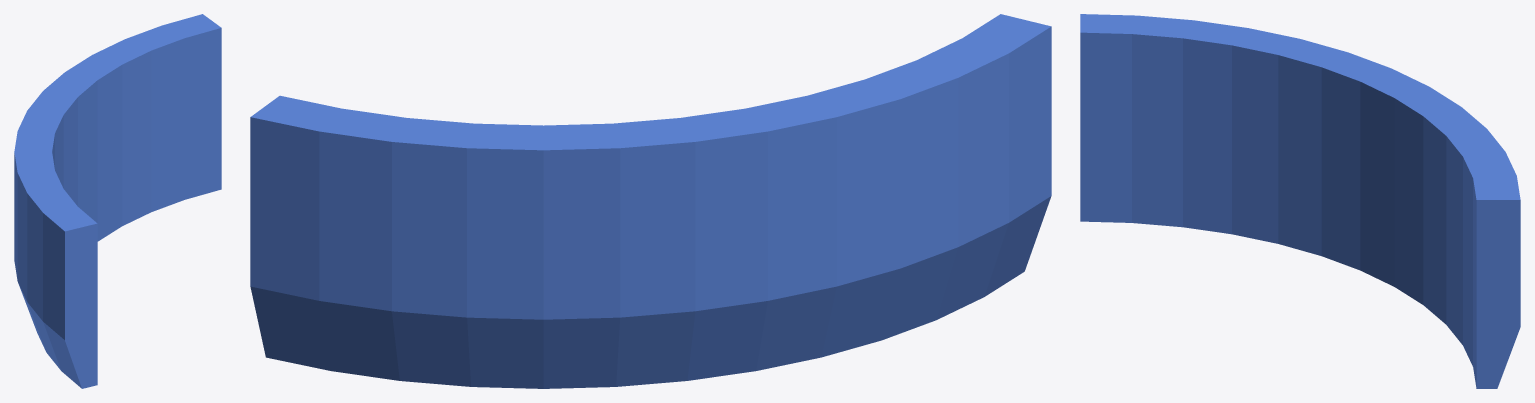
The model's file is TopCables_Corner_Round_Outer_Collision.fbx.
The picture shows the model from 3 angles, left to right: view 1: azimuth 30°, elevation 25°; view 2: azimuth 150°, elevation 25°; view 3: azimuth 270°, elevation 25°; orthographic projection. The views are drawn at different scales.
Visible parts, largest first — view 1: TopCables_Corner_Round_Outer_Collision; view 2: TopCables_Corner_Round_Outer_Collision; view 3: TopCables_Corner_Round_Outer_Collision.
Boxes of the visible parts, bbox=[...] form: TopCables_Corner_Round_Outer_Collision: bbox=[14, 14, 221, 388]; TopCables_Corner_Round_Outer_Collision: bbox=[250, 14, 1051, 388]; TopCables_Corner_Round_Outer_Collision: bbox=[1080, 14, 1520, 388].
Bounding box in the file's own units: 422 × 200 × 422.
